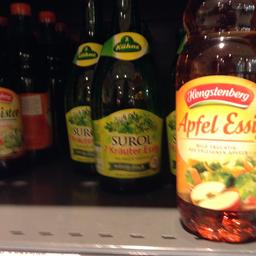vinegar: (175, 0, 255, 245), (95, 2, 166, 188), (64, 0, 98, 179)
